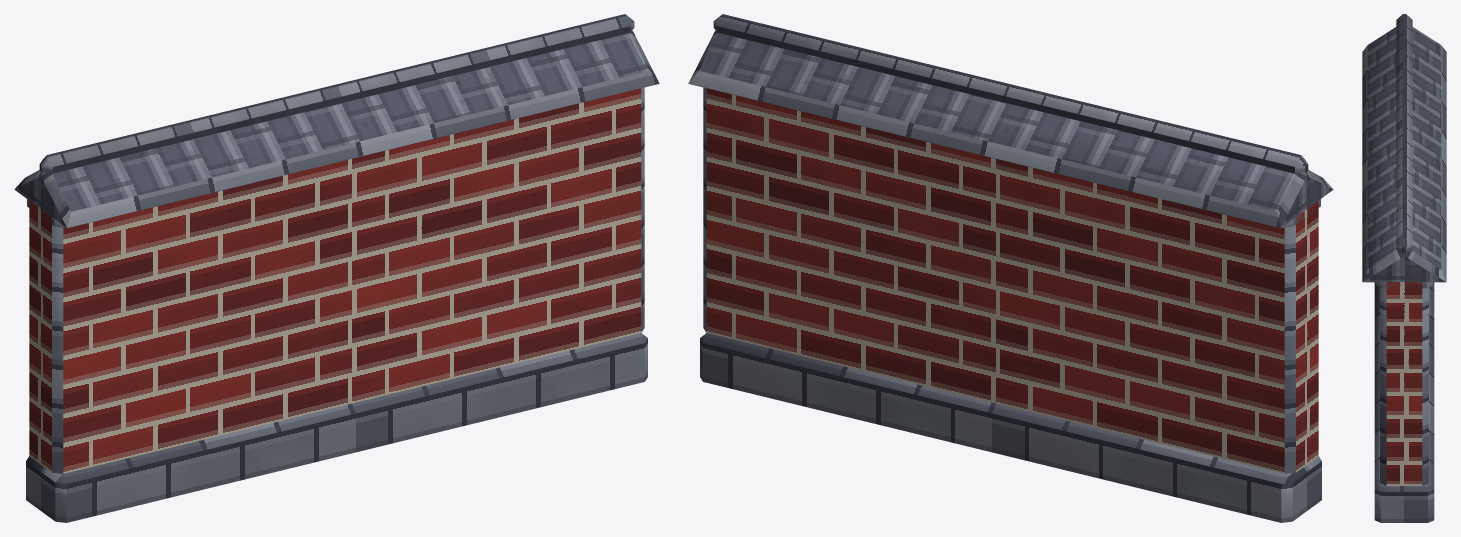
File: cn_courtyard_wall_0.glb
The picture shows the model from 3 angles, left to right: view 1: azimuth 30°, elevation 25°; view 2: azimuth 150°, elevation 25°; view 3: azimuth 270°, elevation 25°; orthographic projection. The views are drawn at different scales.
Visible parts, largest first — view 1: cn_courtyard_wall_1; view 2: cn_courtyard_wall_1; view 3: cn_courtyard_wall_1.
Part boxes in pixels (x1,y1,x2,y2): cn_courtyard_wall_1: (14, 14, 659, 522); cn_courtyard_wall_1: (688, 14, 1333, 522); cn_courtyard_wall_1: (1362, 14, 1446, 522).
Bounding box in the file's own units: 4 × 2.28 × 0.62.
5 materials, 5 textured.
